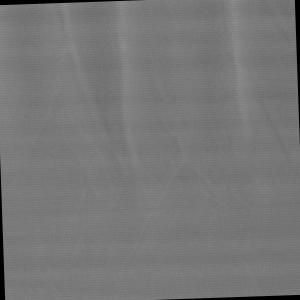Wrinkle: (210, 1, 300, 220), (54, 1, 148, 209)
